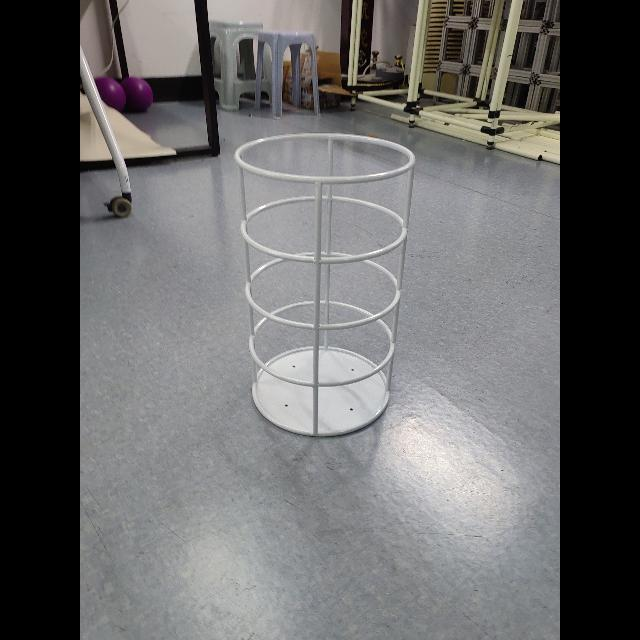S: (232, 129, 420, 441)
